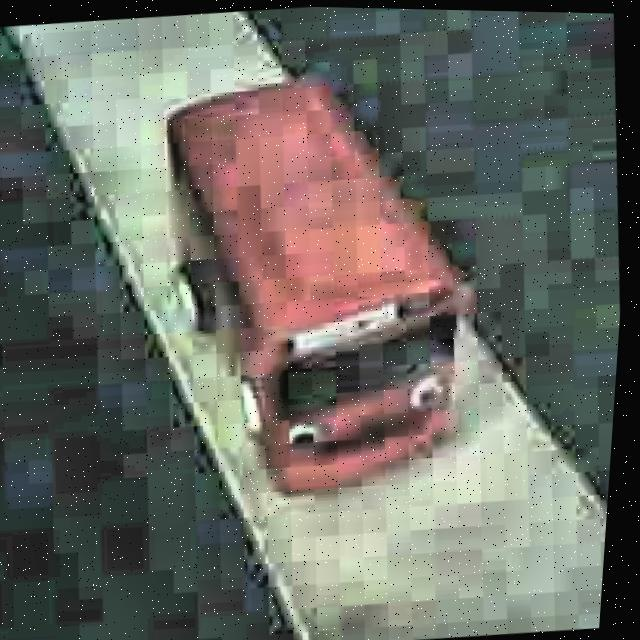bus: (136, 59, 506, 509)
